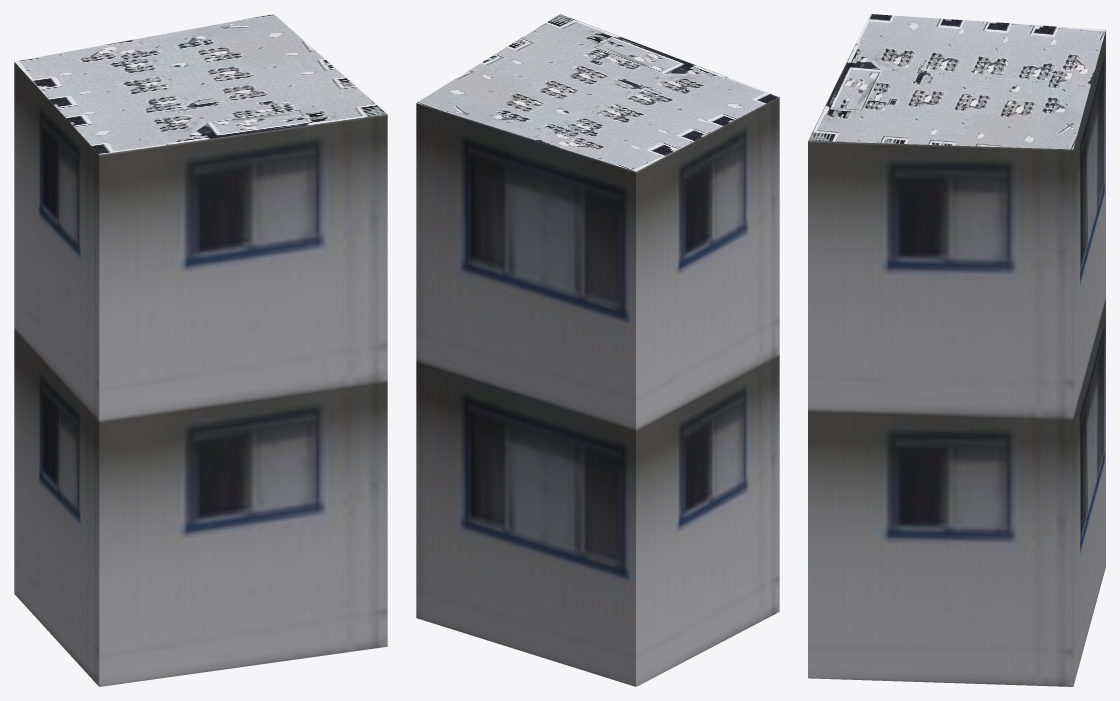
The model's file is ResTex__391.fbx.
3 views of the same model, side by side, from view 1: azimuth 30°, elevation 25°; view 2: azimuth 150°, elevation 25°; view 3: azimuth 270°, elevation 25° (orthographic). The views are drawn at different scales.
Parts seen in each view (by area): view 1: CityEngineMaterial_9_m, CityEngineMaterial_m; view 2: CityEngineMaterial_9_m, CityEngineMaterial_m; view 3: CityEngineMaterial_9_m, CityEngineMaterial_m.
Part boxes in pixels (box(x1,y1,x2,y2)): CityEngineMaterial_9_m: box(14, 62, 387, 686); CityEngineMaterial_m: box(14, 14, 386, 154); CityEngineMaterial_9_m: box(416, 97, 779, 686); CityEngineMaterial_m: box(416, 14, 779, 171); CityEngineMaterial_9_m: box(808, 30, 1105, 686); CityEngineMaterial_m: box(808, 14, 1105, 149).
Bounding box in the file's own units: 3.24 × 6 × 3.01.
2 materials, 2 textured.
